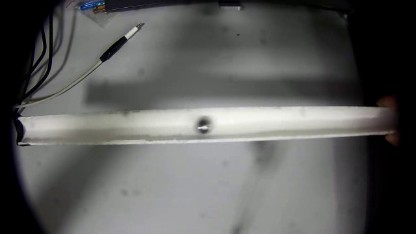gangzhu: (191, 113, 212, 136)
